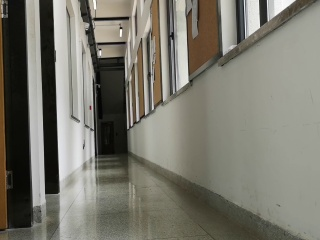room: (3, 4, 37, 232)
